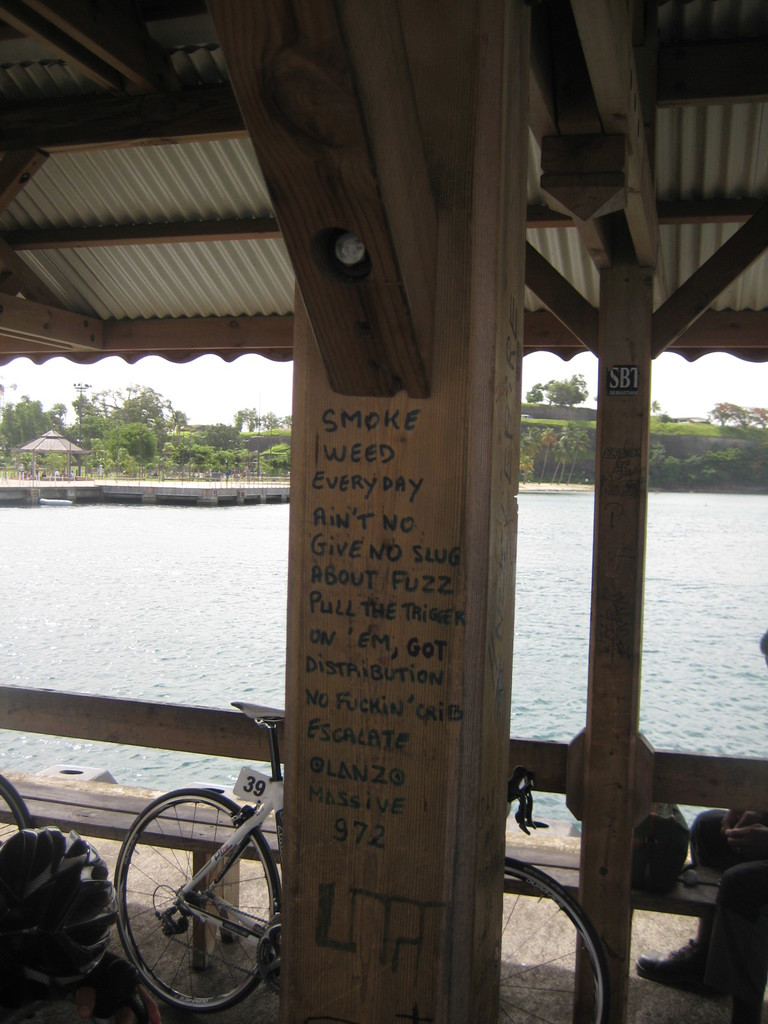Tree: (39, 349, 199, 493), (654, 392, 767, 501), (516, 375, 599, 480), (194, 398, 289, 487), (0, 376, 49, 497)
